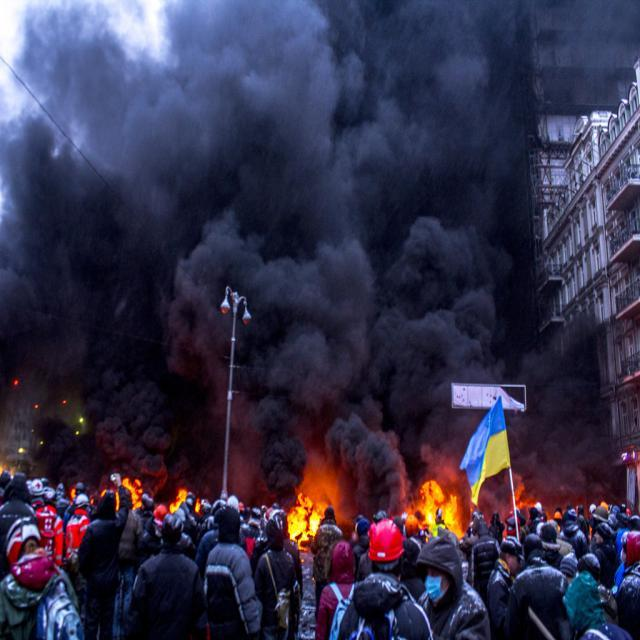Fire: (412, 482, 462, 524), (294, 497, 318, 537)
Smoke: (160, 34, 352, 292), (404, 20, 490, 264), (257, 323, 408, 394)
